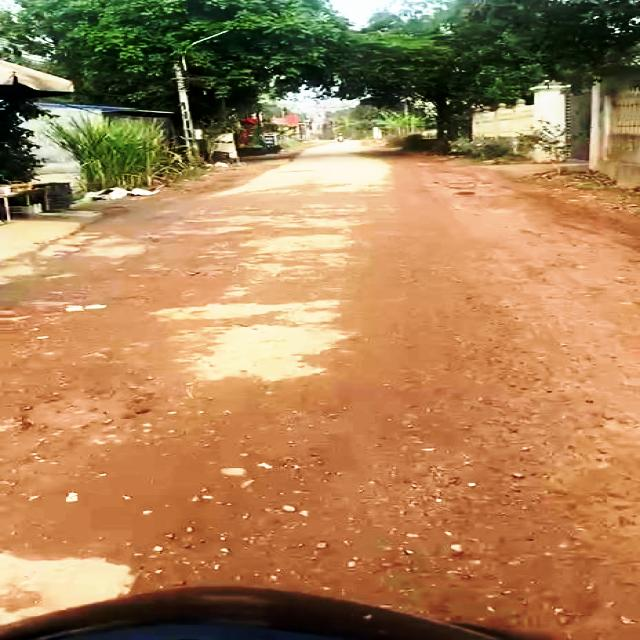pothole: (12, 385, 150, 436)
